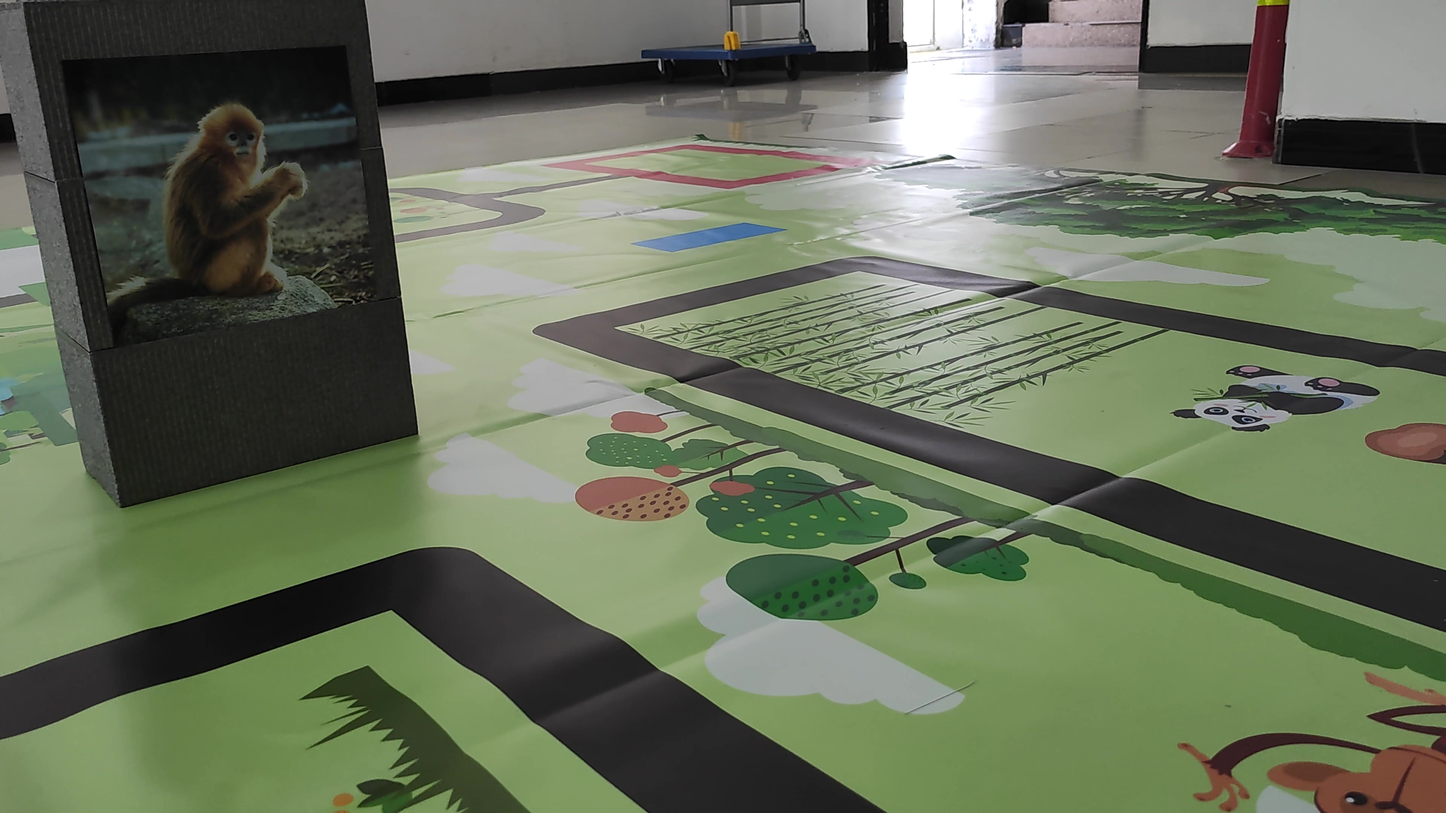monkey: (87, 94, 327, 328)
